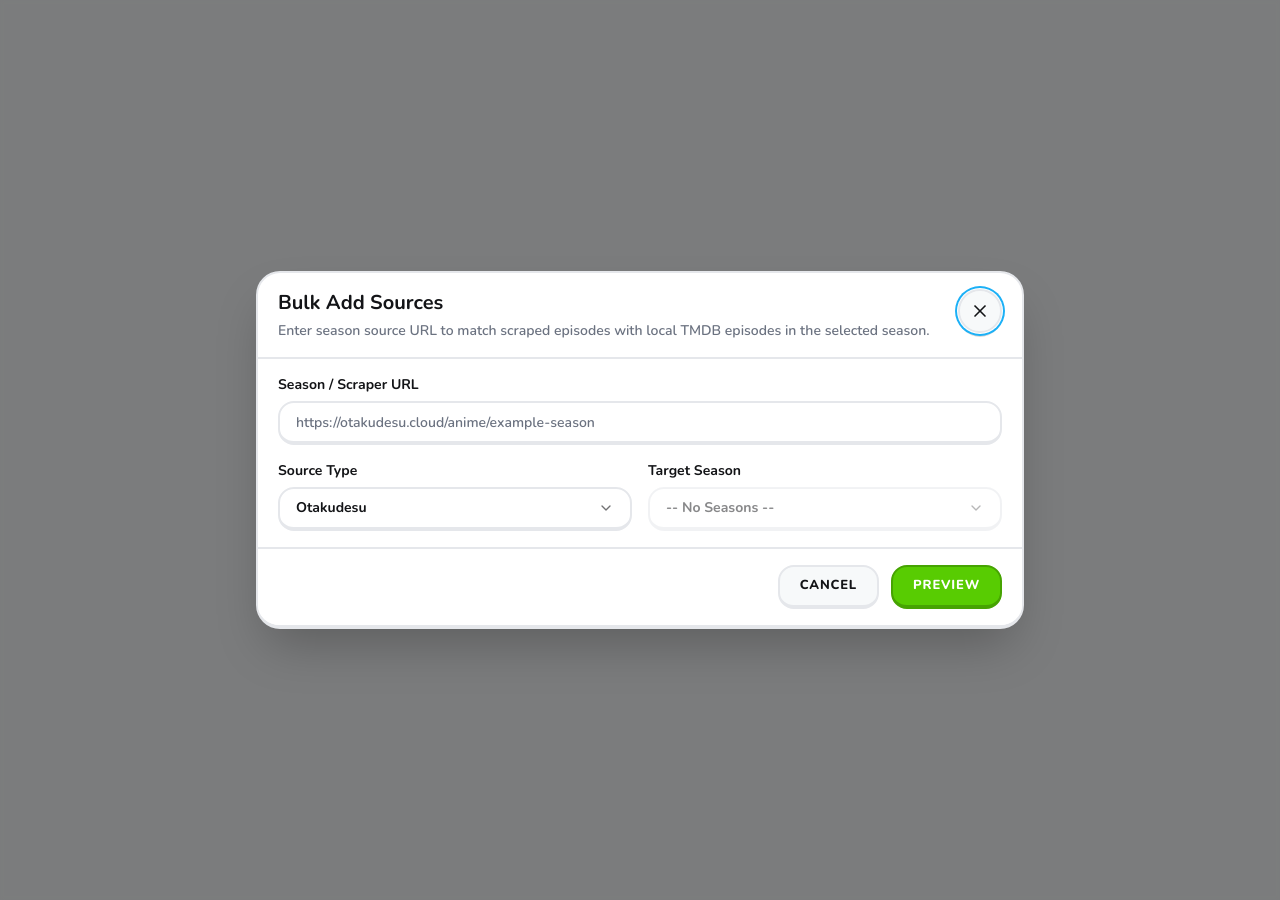
Scenario: BulkScrapeModal component › auto-selects the source type when the URL identifies the provider
Expected: the dropdown named "Source Type" reads "Otakudesu", [278,487,632,531]
Type "https://dramula.example.com/season-1" into the field labelled "Season / Scraper URL" at (640, 423), box [278,401,1002,445]
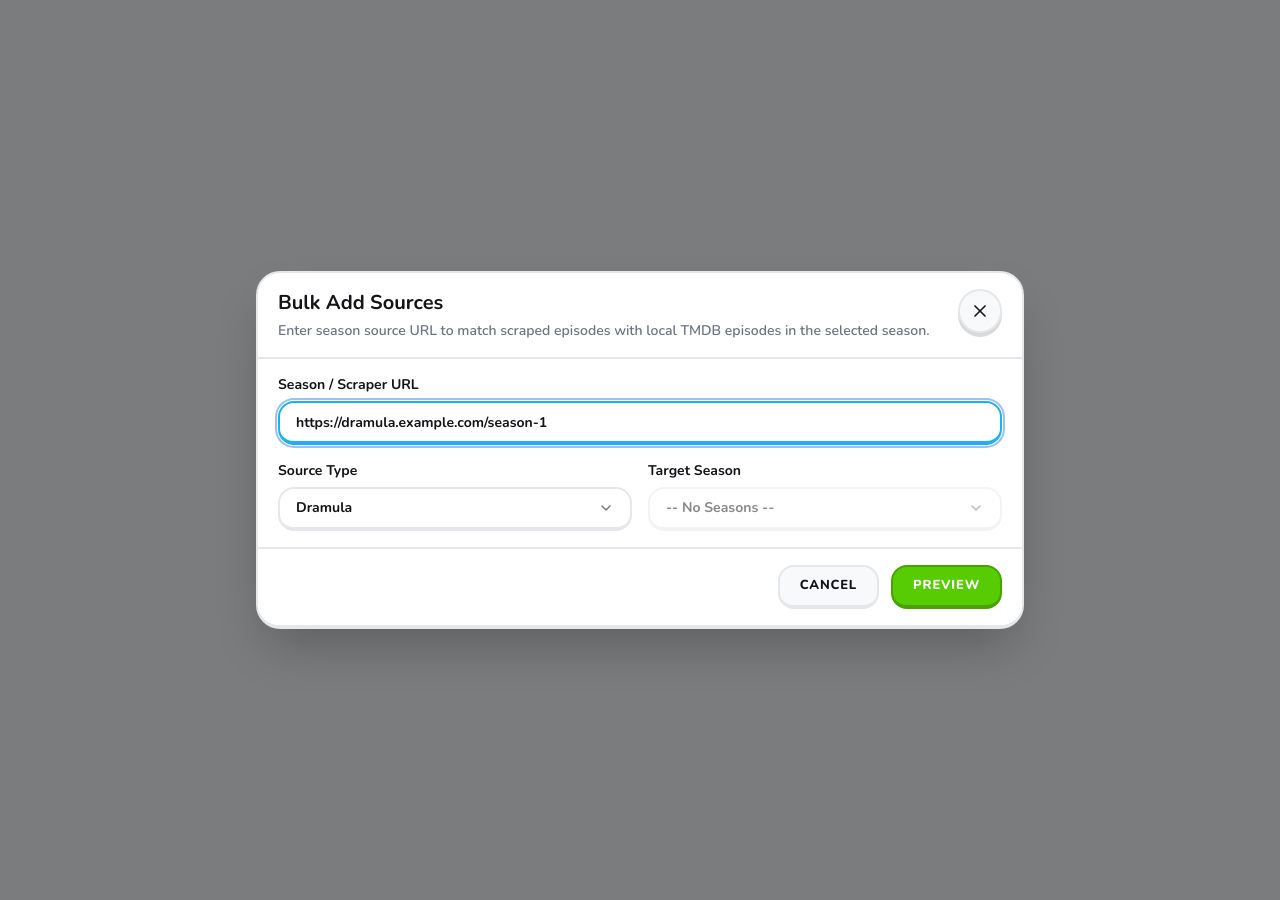
Expected: the dropdown named "Source Type" reads "Dramula", [278,487,632,531]
